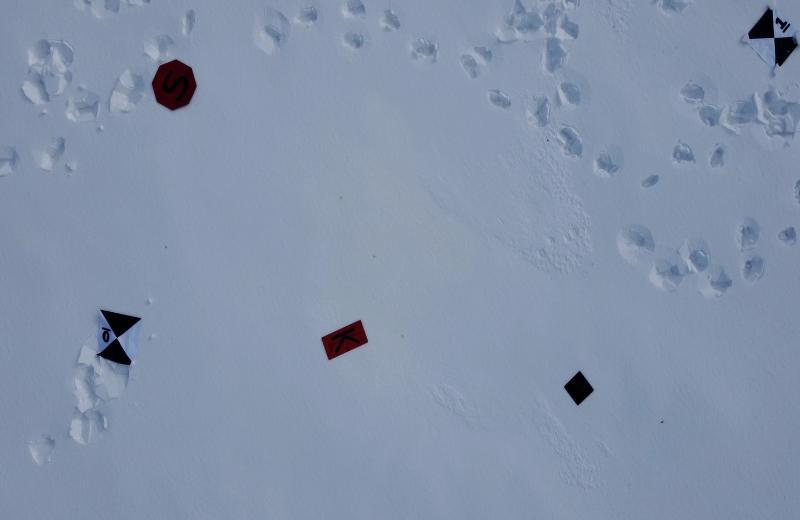Octagon: (151, 58, 199, 113)
Rectangle: (322, 319, 370, 361)
Square: (563, 372, 593, 406)
